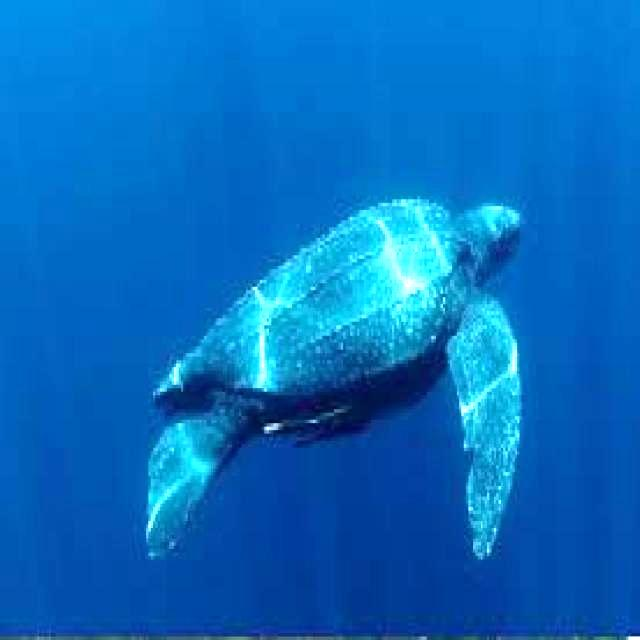Sea turtle: (137, 195, 528, 564)
